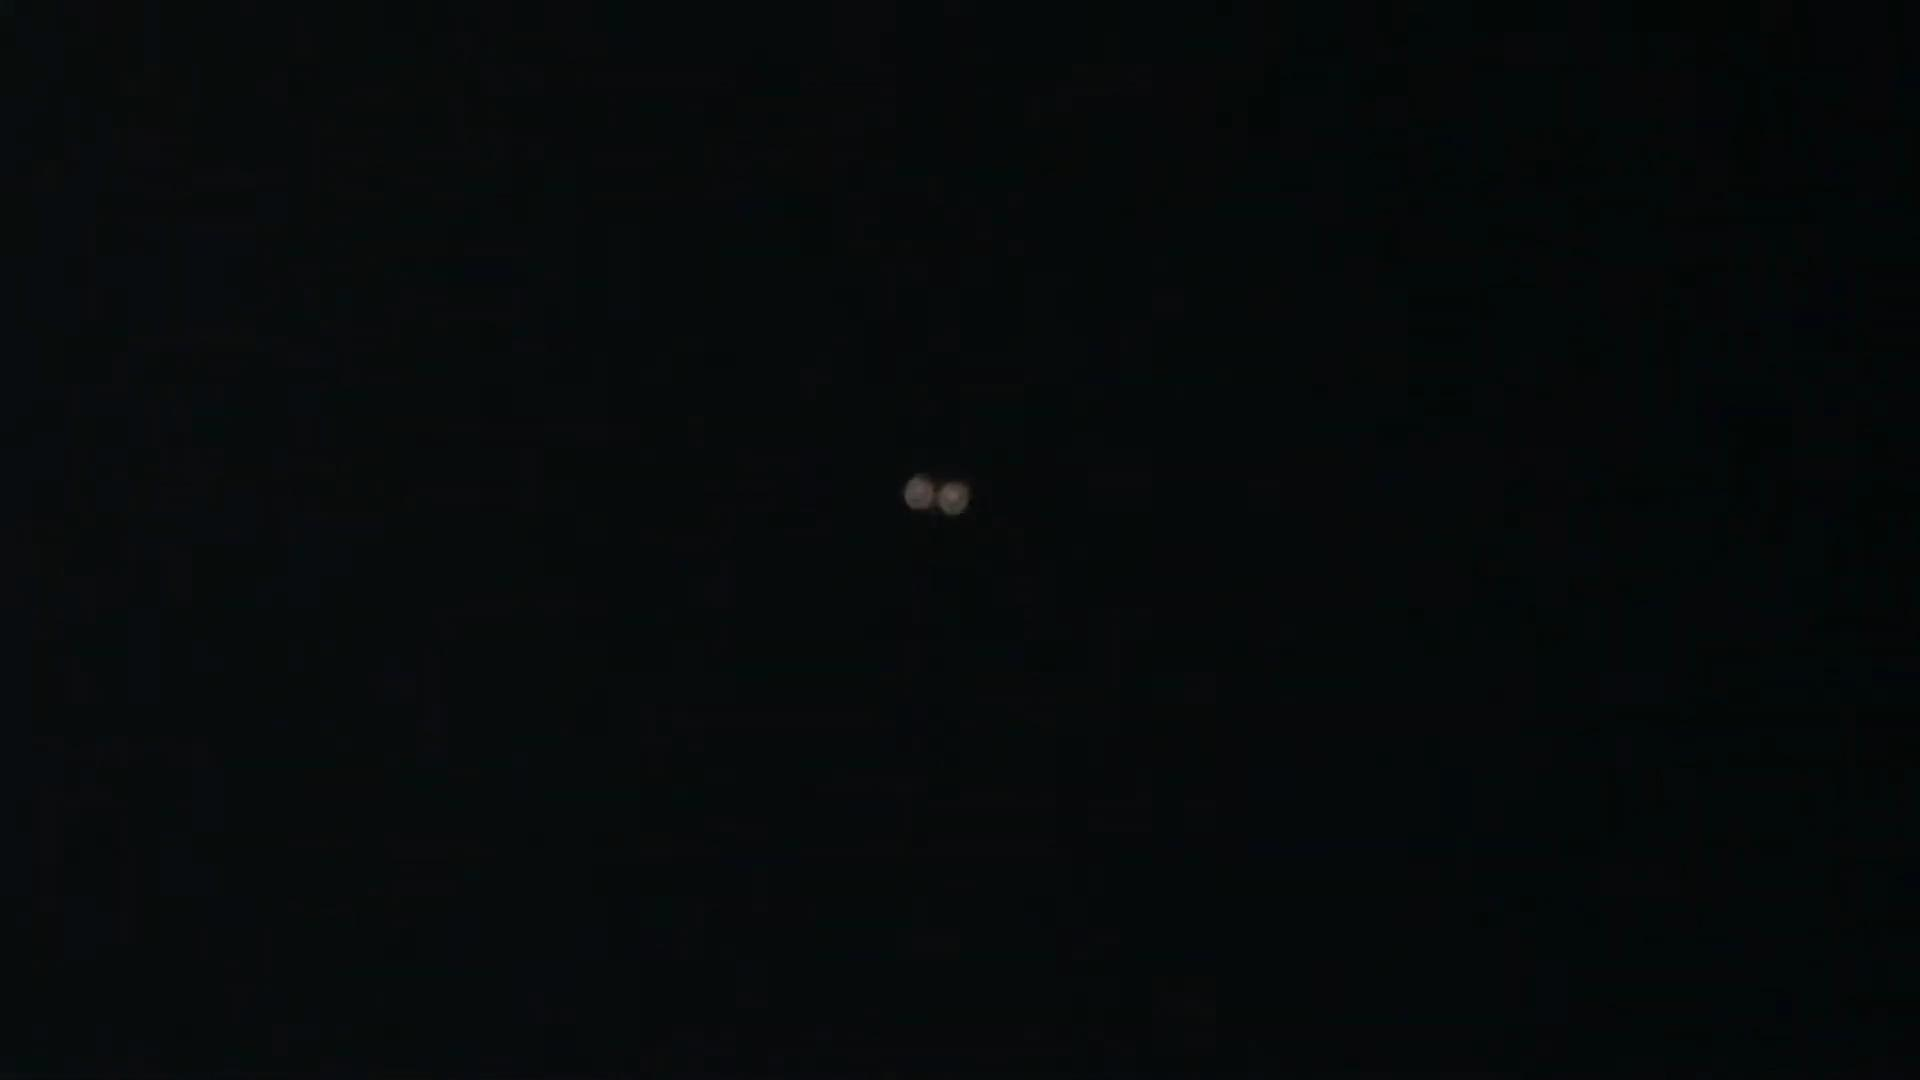Plane: (840, 458, 1033, 535)
